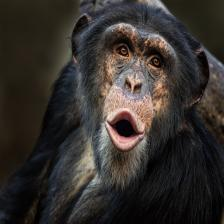monkey: (52, 7, 211, 206)
